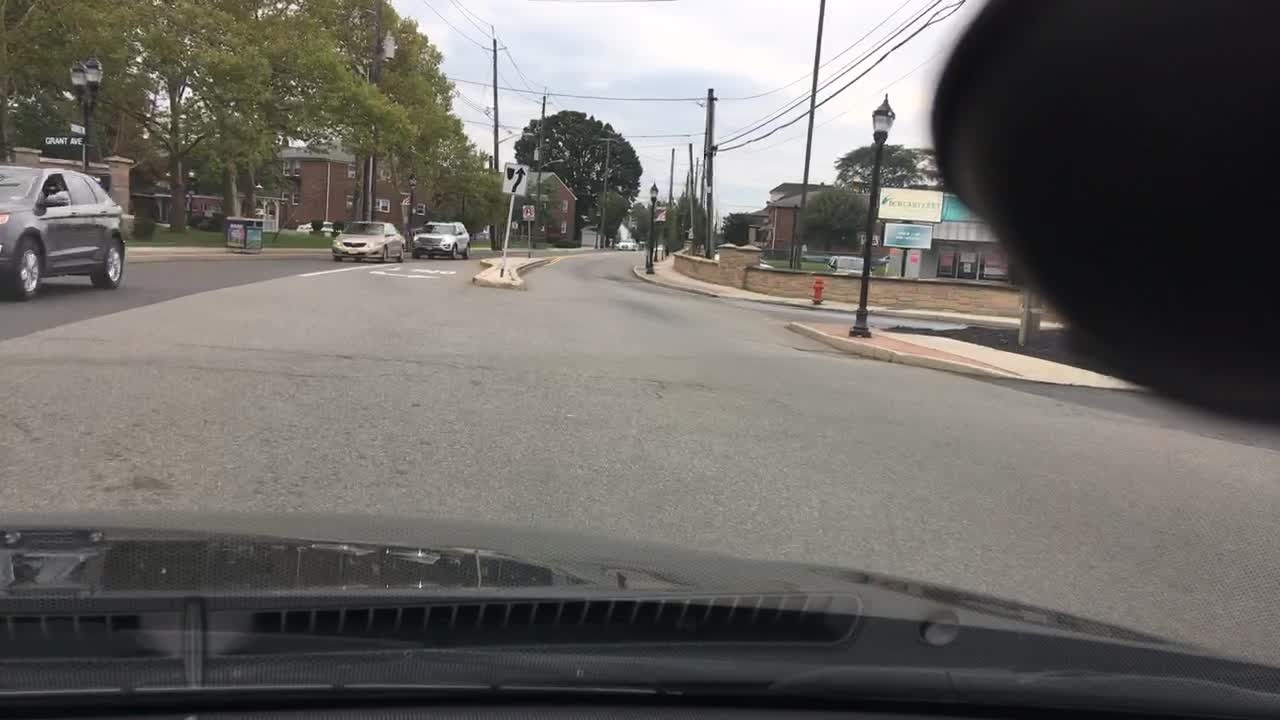car: (1, 166, 128, 302), (330, 218, 408, 263), (408, 218, 472, 262), (710, 248, 773, 272), (824, 251, 877, 277), (296, 218, 337, 236), (616, 236, 637, 251), (636, 239, 648, 251)
traffic sign: (499, 161, 528, 200), (42, 136, 85, 146), (68, 119, 89, 137), (520, 204, 538, 221)
